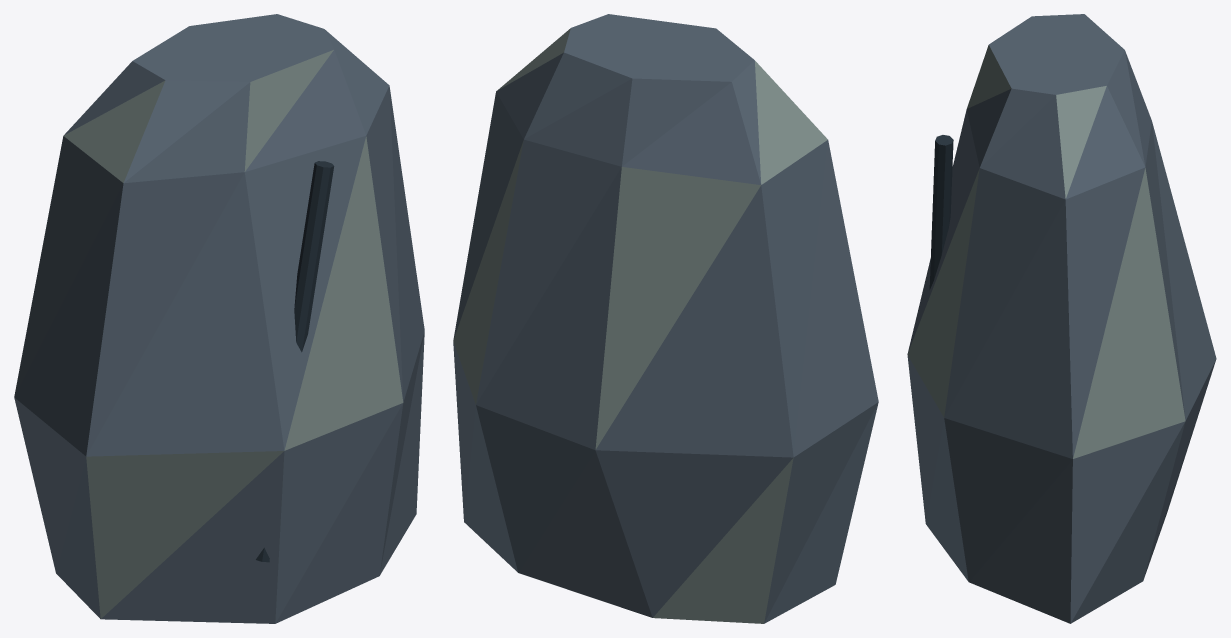
The model's file is split_crag.glb.
The picture shows the model from 3 angles, left to right: view 1: azimuth 30°, elevation 25°; view 2: azimuth 150°, elevation 25°; view 3: azimuth 270°, elevation 25°; orthographic projection. The views are drawn at different scales.
Visible parts, largest first — view 1: split_crag; view 2: split_crag; view 3: split_crag.
Boxes of the visible parts, bbox=[...] form: split_crag: bbox=[14, 14, 424, 623]; split_crag: bbox=[453, 14, 878, 623]; split_crag: bbox=[907, 14, 1216, 623].
Bounding box in the file's own units: 3.11 × 4 × 2.32.
